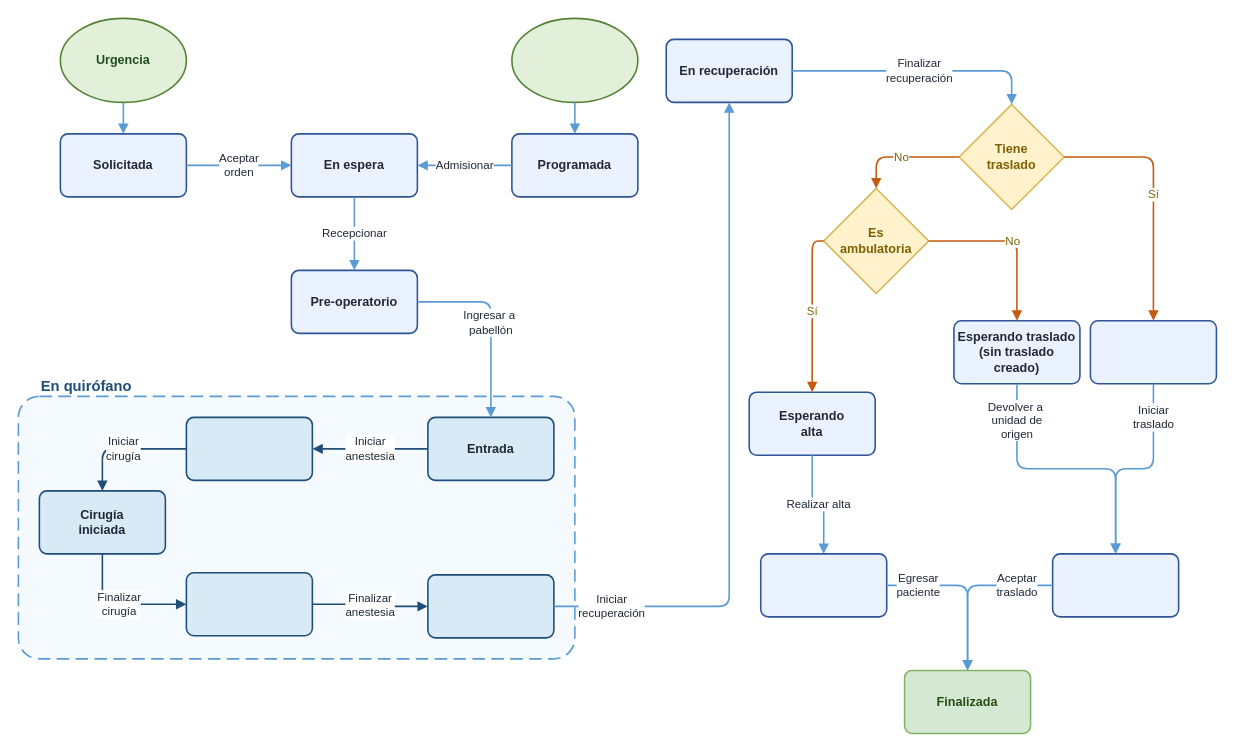
The diagram is 1236 pixels wide and 753 high, and some of its shapes have lost their labels. Each missing label, with the box of its shape:
Anestesia finalizada: (427, 574, 554, 638)
Anestesia iniciada: (185, 416, 313, 481)
Cirugía finalizada: (185, 572, 313, 636)
Electiva: (511, 17, 638, 103)
En tránsito: (1051, 553, 1179, 617)
Esperando egreso: (759, 553, 887, 617)
Esperando traslado (con traslado creado): (1089, 320, 1217, 384)
